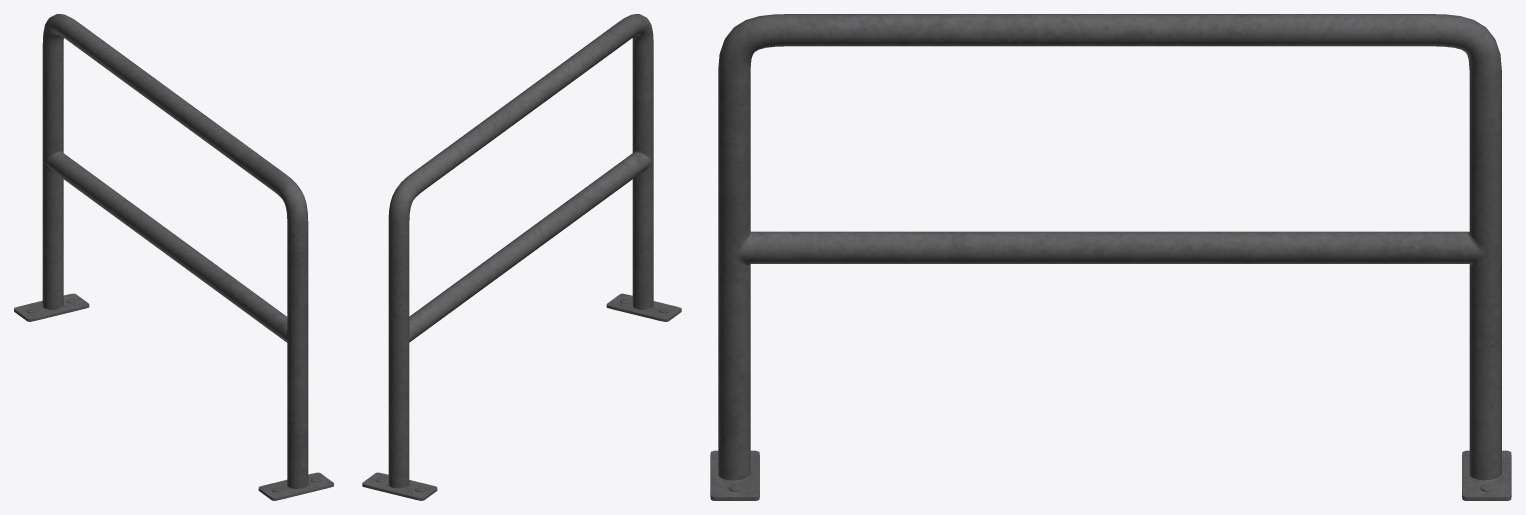
The model's file is Valla peatonal.fbx.
3 renders of one model, left to right at view 1: azimuth 30°, elevation 25°; view 2: azimuth 150°, elevation 25°; view 3: azimuth 270°, elevation 25°, orthographic. The views are drawn at different scales.
Visible parts, largest first — view 1: LOW.001; view 2: LOW.001; view 3: LOW.001.
Boxes of the visible parts, <box> form: LOW.001: <box>14,14,333,500</box>; LOW.001: <box>362,14,681,500</box>; LOW.001: <box>710,14,1511,500</box>.
Bounding box in the file's own units: 0.2398 × 1.75 × 1.12.
Materials: 1 (1 with a texture image).
